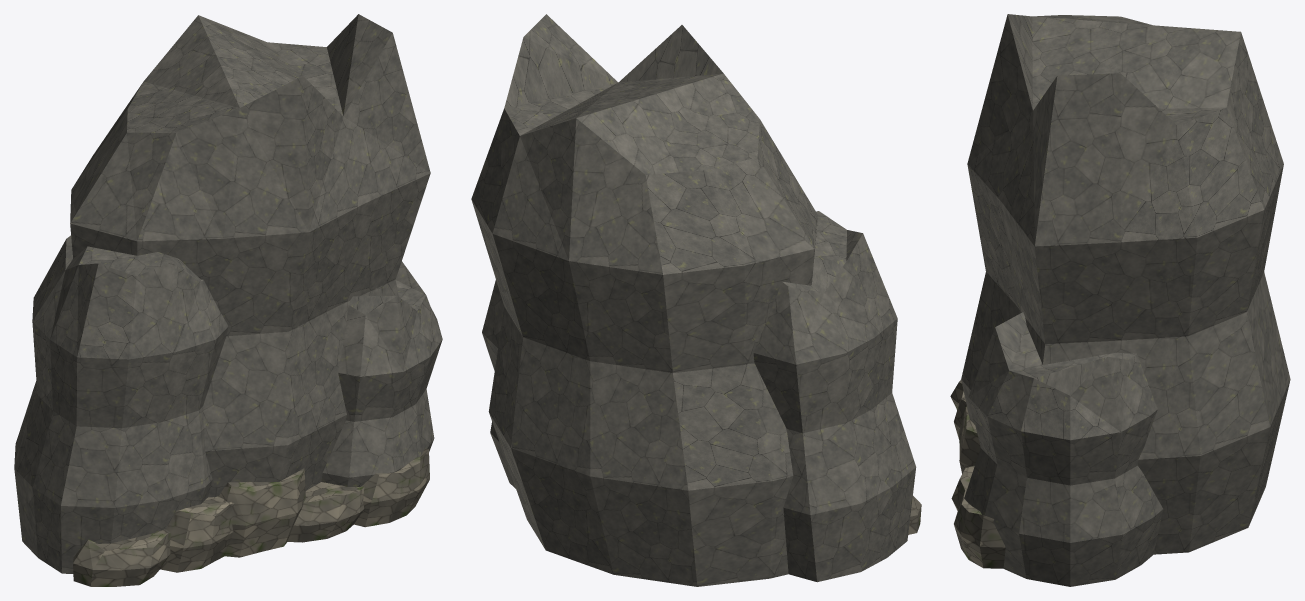
Rendered from Cliff_A.fbx.
The picture shows the model from 3 angles, left to right: view 1: azimuth 30°, elevation 25°; view 2: azimuth 150°, elevation 25°; view 3: azimuth 270°, elevation 25°; orthographic projection. The views are drawn at different scales.
Visible parts, largest first — view 1: Cliff_A; view 2: Cliff_A; view 3: Cliff_A.
Part boxes in pixels (x1,y1,x2,y2): Cliff_A: (14,14,442,586); Cliff_A: (471,14,921,586); Cliff_A: (950,14,1290,586).
Bounding box in the file's own units: 8.2 × 8.74 × 5.4.
